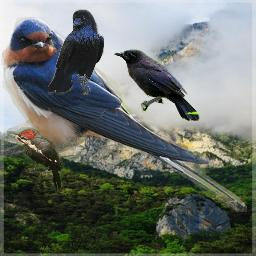Crow: (114, 49, 200, 121), (48, 9, 104, 95)
Swallow: (1, 17, 247, 212)
Woodpecker: (7, 127, 67, 192)
